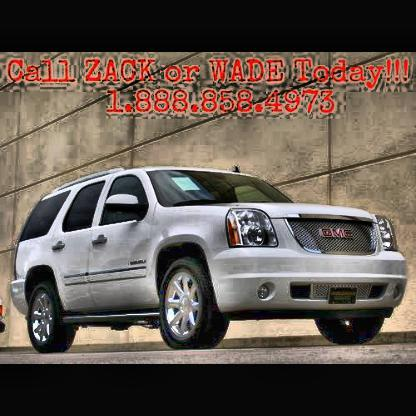GMC Yukon Hybrid SUV 2012: (14, 166, 410, 352)
